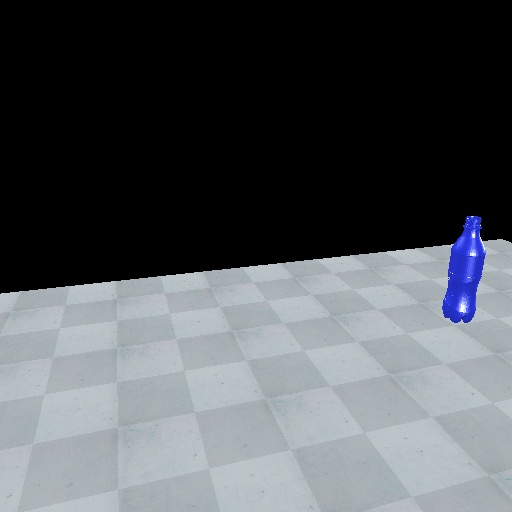bottle: (439, 214, 489, 327)
